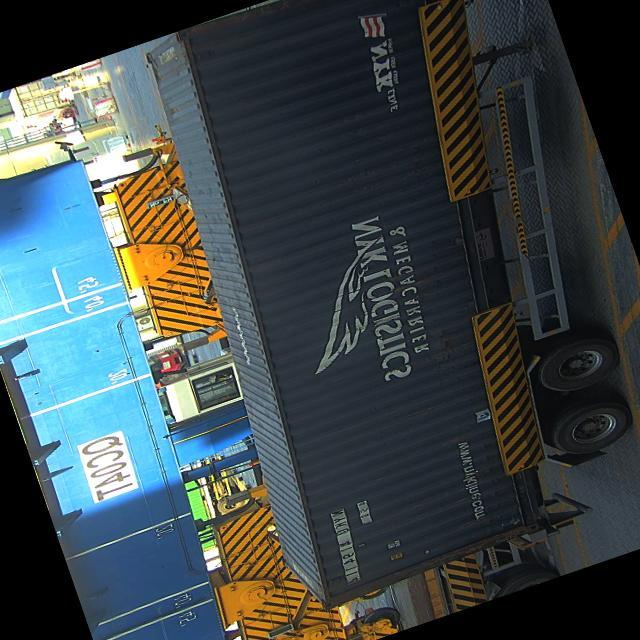rust: (312, 516, 547, 617)
